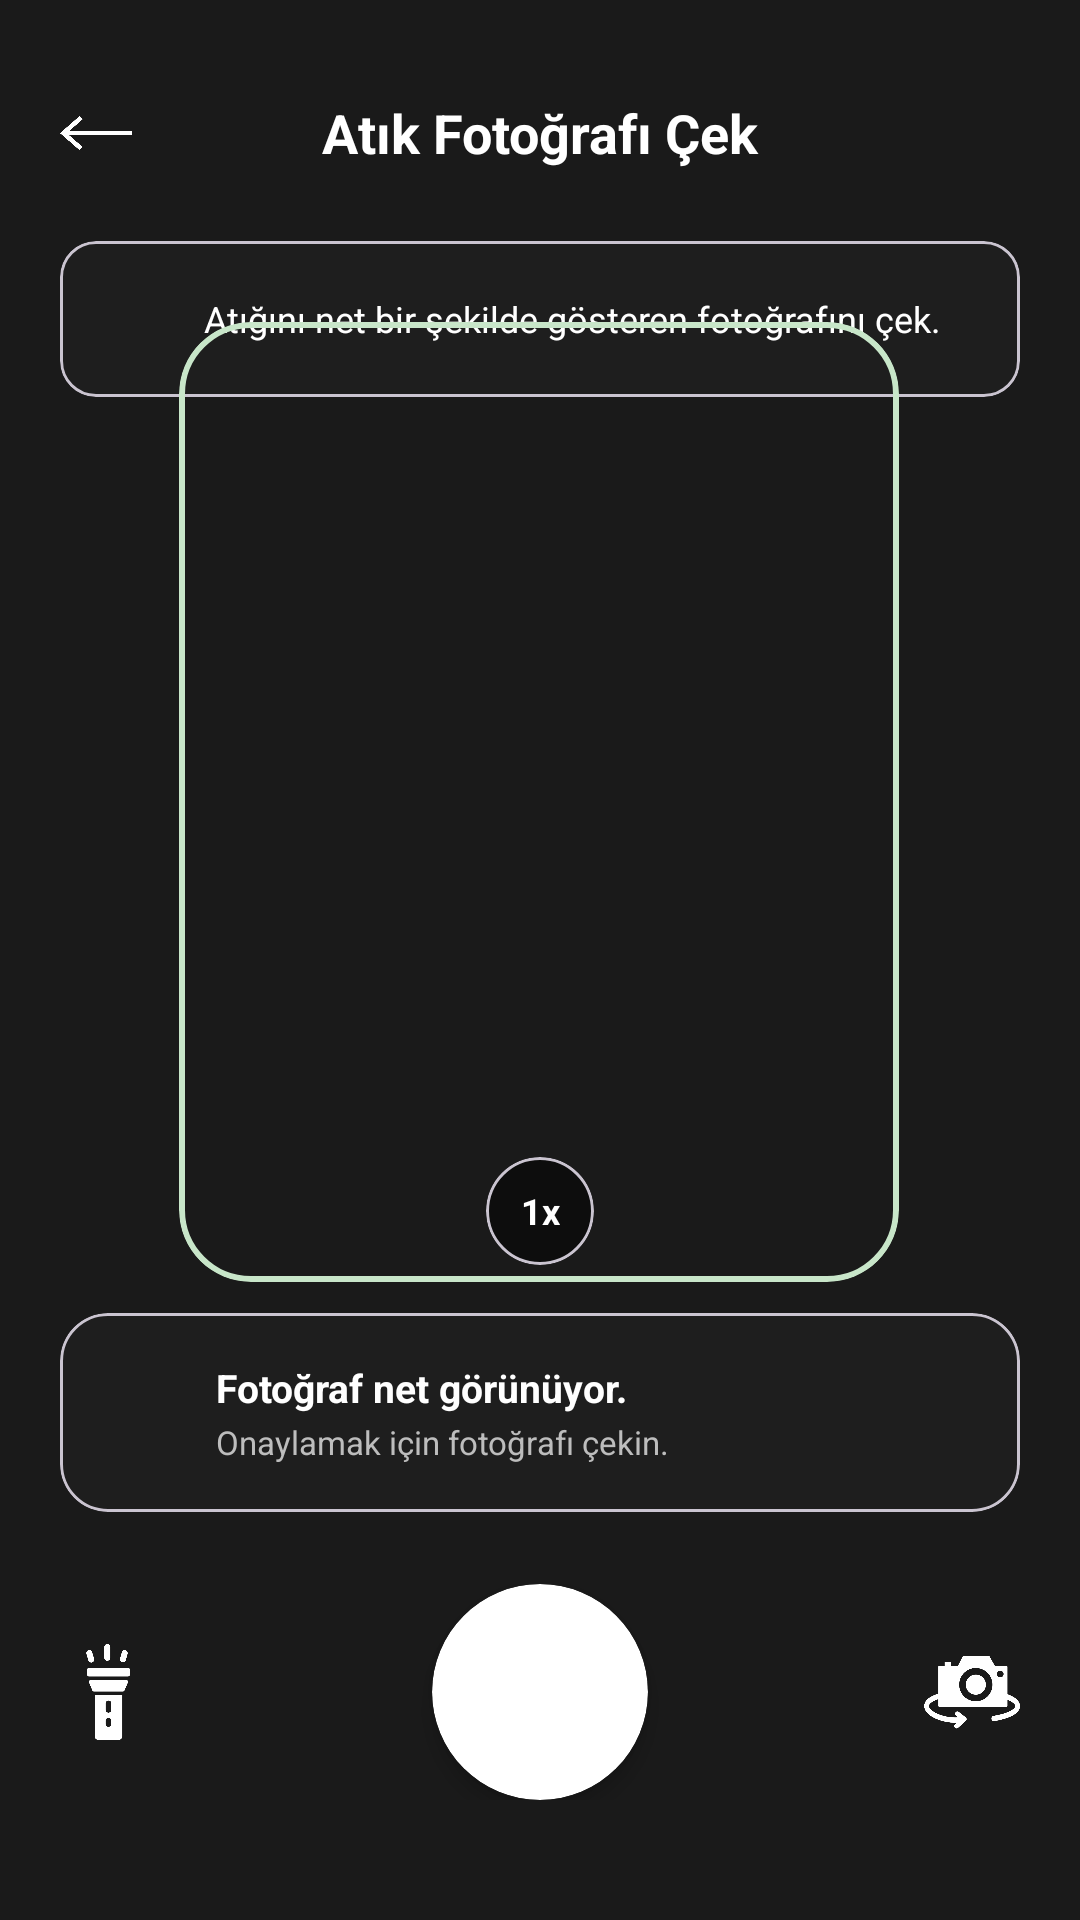

Named icons in this screenshot (1080 x 1920) and their bounding boxes, (x1, y1, x2, y2):
back: (60, 116, 132, 150)
flashlight: (86, 1644, 130, 1740)
flip camera: (924, 1656, 1020, 1729)
